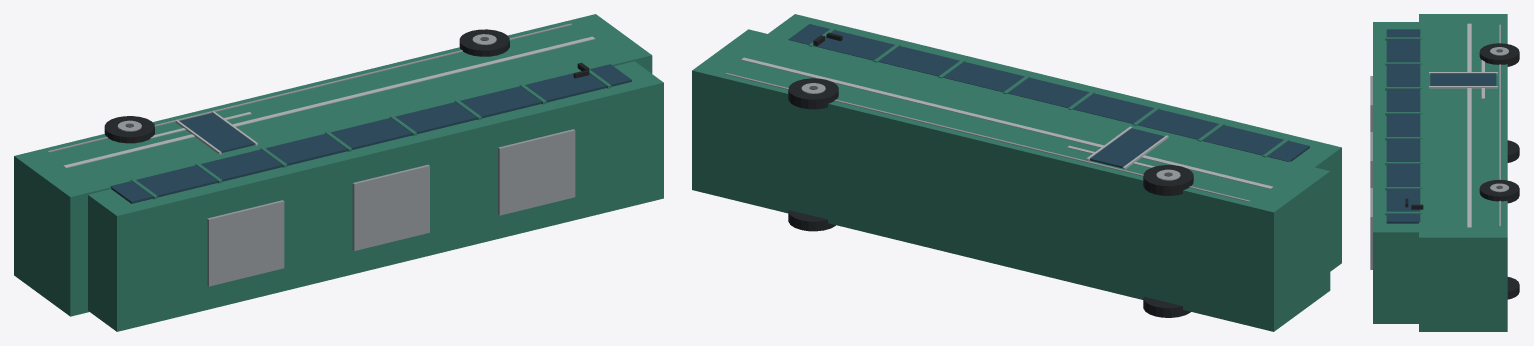
File: RM_Bus_40.glb
3 views of the same model, side by side, from view 1: azimuth 30°, elevation 25°; view 2: azimuth 150°, elevation 25°; view 3: azimuth 270°, elevation 25° (orthographic). The views are drawn at different scales.
Parts seen in each view (by area): view 1: part_001, part_000, part_002, part_038, part_037, part_039, part_013, part_040, part_014, part_030, part_024; view 2: part_000, part_002, part_001, part_013, part_040, part_030, part_024, part_014, part_027, part_021; view 3: part_000, part_001, part_002, part_013, part_040, part_024, part_030, part_014, part_021, part_027, part_039, part_042 (+5 smaller).
Part boxes in pixels (<box>): part_001: <box>88,61,663,331</box>; part_000: <box>14,14,652,316</box>; part_002: <box>110,64,631,203</box>; part_038: <box>352,164,429,250</box>; part_037: <box>207,200,284,286</box>; part_039: <box>498,129,575,215</box>; part_013: <box>63,36,595,168</box>; part_040: <box>179,113,254,152</box>; part_014: <box>47,23,572,152</box>; part_030: <box>459,29,509,56</box>; part_024: <box>104,116,154,143</box>; part_000: <box>692,29,1330,331</box>; part_002: <box>788,24,1309,161</box>; part_001: <box>768,14,1341,271</box>; part_013: <box>741,57,1272,189</box>; part_040: <box>1090,128,1164,168</box>; part_030: <box>788,78,838,109</box>; part_024: <box>1143,165,1193,195</box>; part_014: <box>725,73,1249,201</box>; part_027: <box>788,210,835,231</box>; part_021: <box>1143,296,1190,317</box>; part_000: <box>1419,14,1507,331</box>; part_001: <box>1373,22,1418,323</box>; part_002: <box>1386,29,1420,223</box>; part_013: <box>1467,23,1471,227</box>; part_040: <box>1430,73,1496,85</box>; part_024: <box>1479,43,1519,66</box>; part_030: <box>1479,179,1519,203</box>; part_014: <box>1499,24,1500,226</box>; part_021: <box>1507,140,1519,162</box>; part_027: <box>1507,277,1519,299</box>; part_039: <box>1370,188,1372,269</box>; part_042: <box>1429,86,1497,88</box>.
Size of the model in its own units: 12.48 by 2.77 by 3.51.
